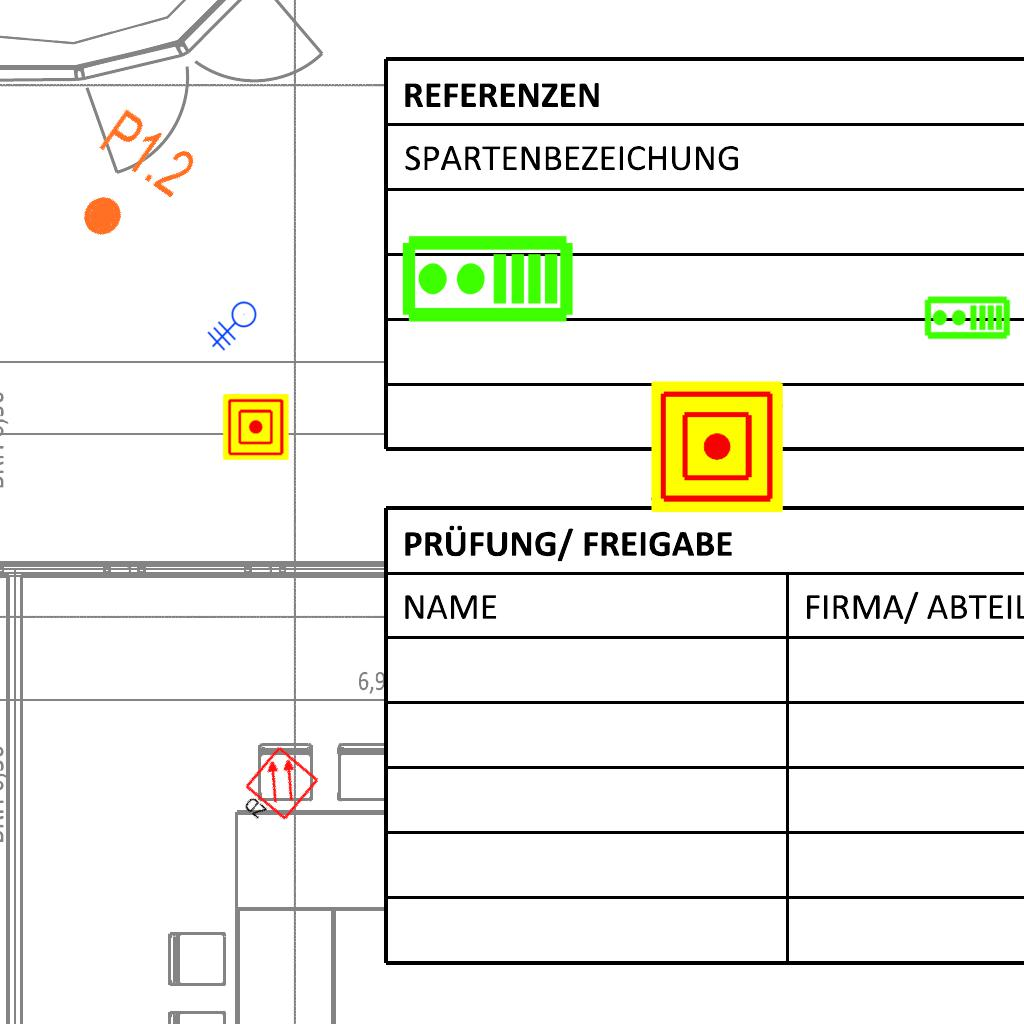Downlight_LED_Einbauleuchten_Flur: (52, 103, 203, 263)
Elektroanschluss_allgemein_400V_Geraeteanschlussdose_400V: (207, 301, 265, 357)
Gegensprechanlage_mit_Video: (399, 233, 575, 328), (923, 295, 1011, 342)
NAM-Nichtautomatischer_Melder: (651, 381, 783, 513), (223, 394, 289, 460)
ZD_Melder_in_Zwischendecke_mit_Revisionsoeffnung_mind_40_x_40_cm: (230, 744, 323, 838)
